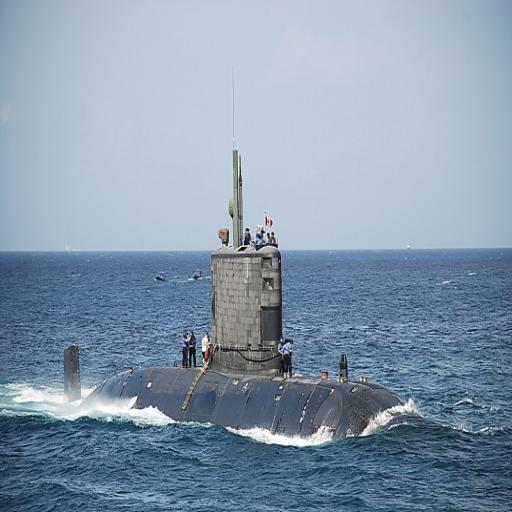submarine: (45, 152, 441, 435)
